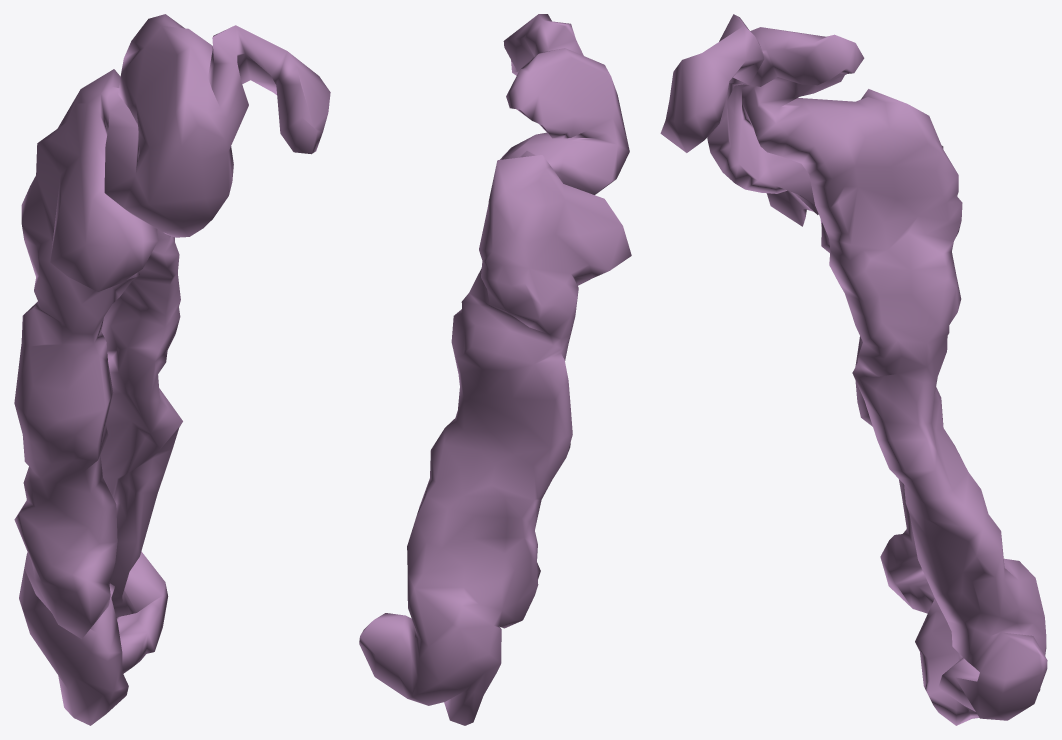
3 views of the same model, side by side, from view 1: azimuth 30°, elevation 25°; view 2: azimuth 150°, elevation 25°; view 3: azimuth 270°, elevation 25° (orthographic). The views are drawn at different scales.
Parts seen in each view (by area): view 1: 右侧颞下回; view 2: 右侧颞下回; view 3: 右侧颞下回.
Boxes of the visible parts, left/top/right/bottom form: 右侧颞下回: left=14, top=14, right=330, bottom=725; 右侧颞下回: left=359, top=14, right=631, bottom=725; 右侧颞下回: left=660, top=14, right=1047, bottom=725.
Size of the model in its own units: 0.0378 by 0.1321 by 0.0649.
